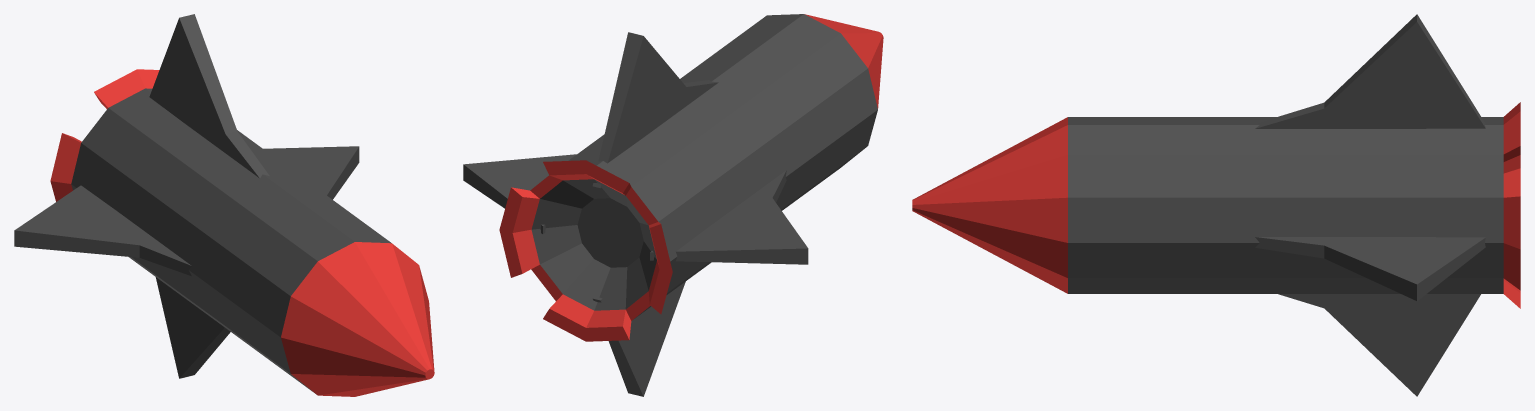
Rendered from explosiva.fbx.
3 renders of one model, left to right at view 1: azimuth 30°, elevation 25°; view 2: azimuth 150°, elevation 25°; view 3: azimuth 270°, elevation 25°, orthographic. The views are drawn at different scales.
Visible parts, largest first — view 1: Cilindro.002; view 2: Cilindro.002; view 3: Cilindro.002.
Boxes of the visible parts, x1,y1,x2,y2 form: Cilindro.002: [14, 14, 434, 396]; Cilindro.002: [463, 14, 883, 396]; Cilindro.002: [912, 14, 1520, 396].
Bounding box in the file's own units: 22.34 × 22.34 × 32.83.
